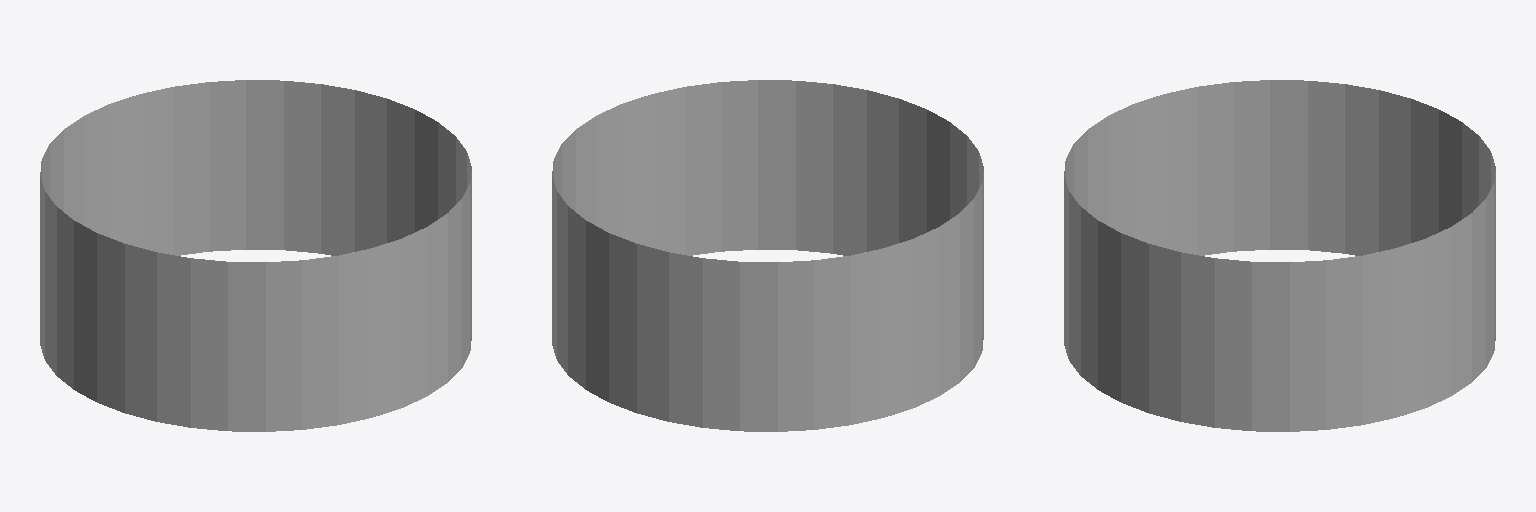
File: original-33.obj
The picture shows the model from 3 angles: view 1: azimuth 30°, elevation 25°; view 2: azimuth 150°, elevation 25°; view 3: azimuth 270°, elevation 25°; orthographic projection.
Visible parts, largest first — view 1: #ID144; view 2: #ID144; view 3: #ID144.
Boxes of the visible parts, x1=… form: #ID144: x1=40, y1=80, x2=471, y2=431; #ID144: x1=552, y1=80, x2=983, y2=431; #ID144: x1=1064, y1=80, x2=1495, y2=431.
Size of the model in its own units: 0.0464 by 0.0201 by 0.0464.